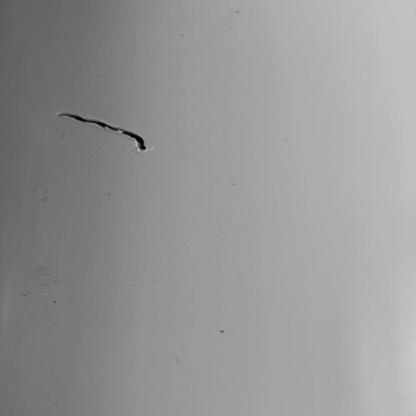fengxi: (52, 112, 148, 151)
